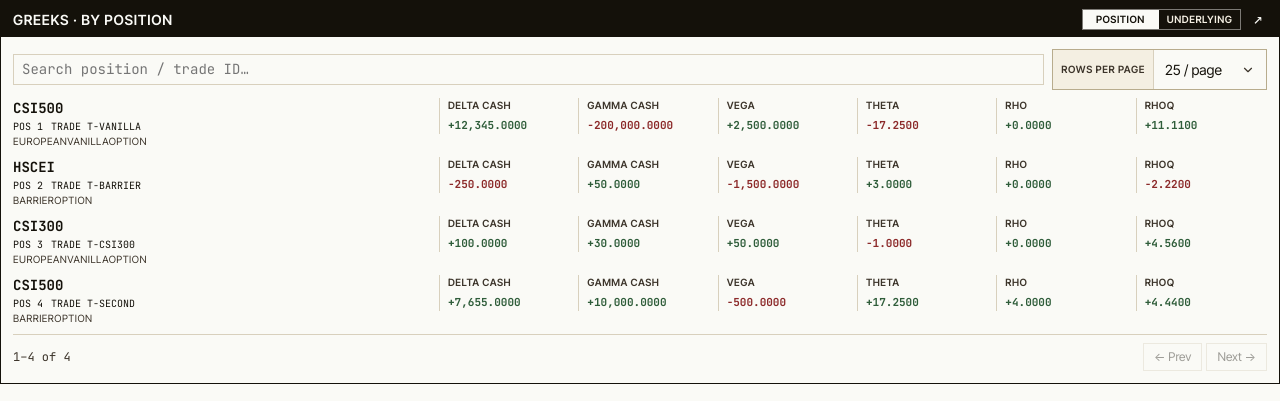
Test case: GreeksByPosition › toggles to underlying grouping and aggregates Greeks
Step 1. Click the button "Underlying" → (1200, 19), box [1159,10,1240,28]
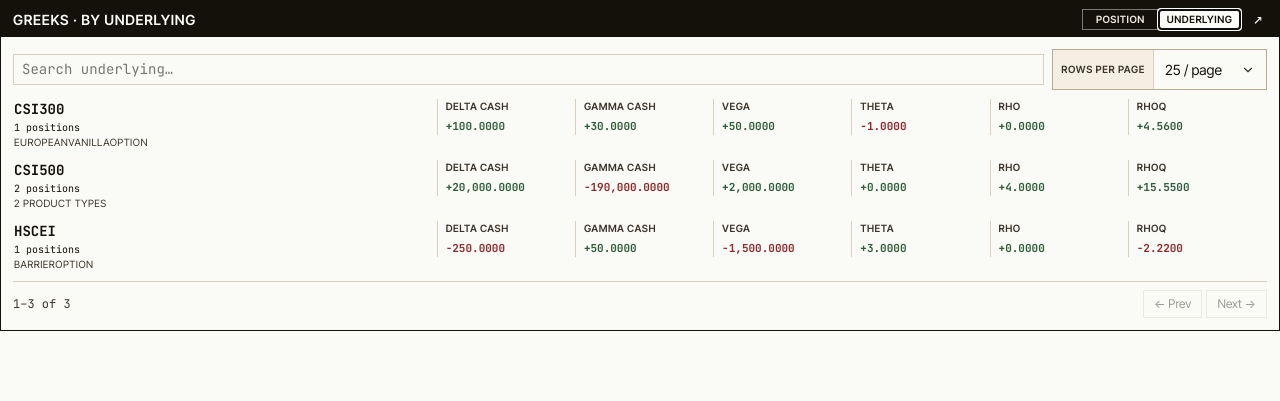
expect the text "GREEKS · BY UNDERLYING" is shown: met, box [13,10,196,28]
expect the field with placeholder "Search underlying…" is shown: met, box [13,54,1044,85]
expect the text "CSI500" is shown once: met, box [14,161,64,179]
